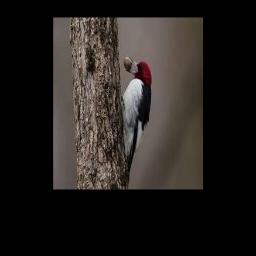Woodpecker: (121, 56, 152, 187)
